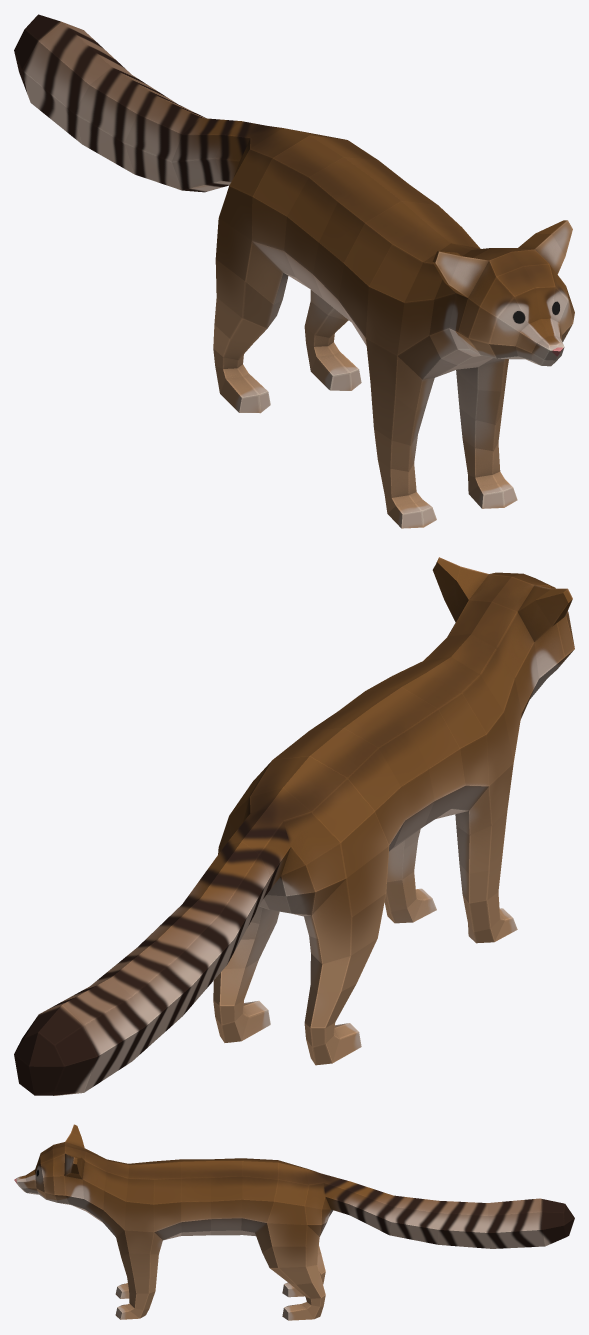
File: RingtailedCat.obj
3 views of the same model, one above another, from view 1: azimuth 30°, elevation 25°; view 2: azimuth 150°, elevation 25°; view 3: azimuth 270°, elevation 25° (orthographic). The views are drawn at different scales.
Visible parts, largest first — view 1: RingtailedCat_mesh; view 2: RingtailedCat_mesh; view 3: RingtailedCat_mesh.
Boxes of the visible parts, box(x1,y1,x2,y2) form: RingtailedCat_mesh: box(14, 14, 574, 528); RingtailedCat_mesh: box(14, 557, 574, 1095); RingtailedCat_mesh: box(14, 1124, 574, 1320).
Bounding box in the file's own units: 0.6474 × 1.36 × 4.22.
1 material, 1 textured.
